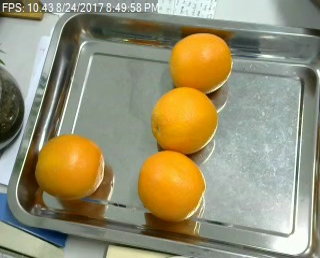Orange: (138, 150, 206, 220), (34, 134, 105, 201), (150, 85, 217, 154), (168, 31, 232, 94)
